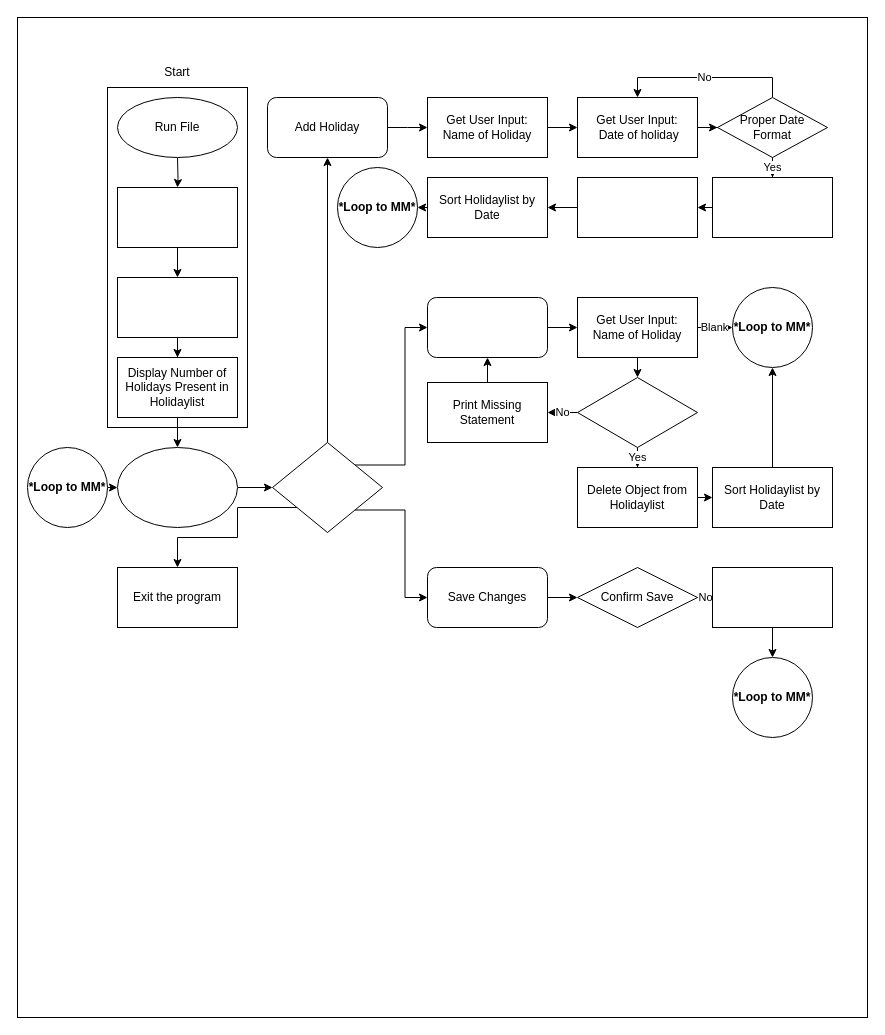
Image size: 885x1035. Some labels were removed from this diagram. Each missing label, with the centre of its shape:
Add object to Holidaylist: the point at 637,207
Create Holidaylist Class / Holiday dataclass: the point at 177,217
Create New Holiday Object with Name and Date: the point at 772,207
Get Data From JSON and Web, Create Holiday Objects: the point at 177,307
Holiday Name in Holidaylist: the point at 637,412
Main Menu: the point at 177,487
Print Canceled Statement: the point at 772,597
Remove Holiday: the point at 487,327
User Choice *Loop if needed*: the point at 327,487
